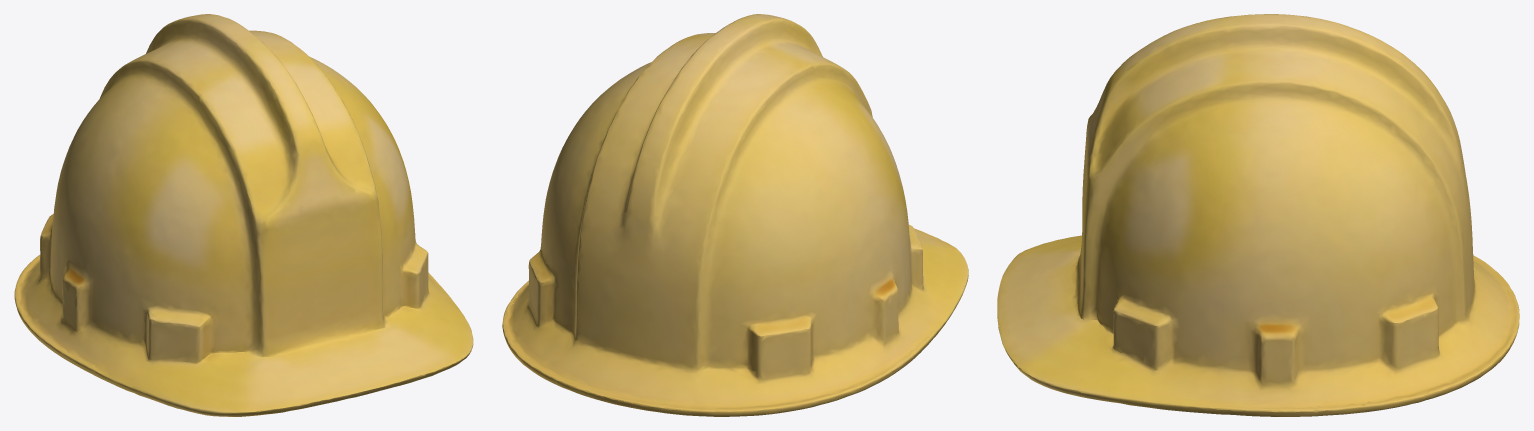
The model's file is yellow-hard-hat.glb.
3 renders of one model, left to right at view 1: azimuth 30°, elevation 25°; view 2: azimuth 150°, elevation 25°; view 3: azimuth 270°, elevation 25°, orthographic. The views are drawn at different scales.
Parts seen in each view (by area): view 1: Mesh; view 2: Mesh; view 3: Mesh.
Boxes of the visible parts, left/top/right/bottom form: Mesh: left=14, top=14, right=473, bottom=416; Mesh: left=502, top=14, right=968, bottom=416; Mesh: left=997, top=14, right=1519, bottom=416.
Bounding box in the file's own units: 1.65 × 1.23 × 1.91.
1 material, 1 textured.
